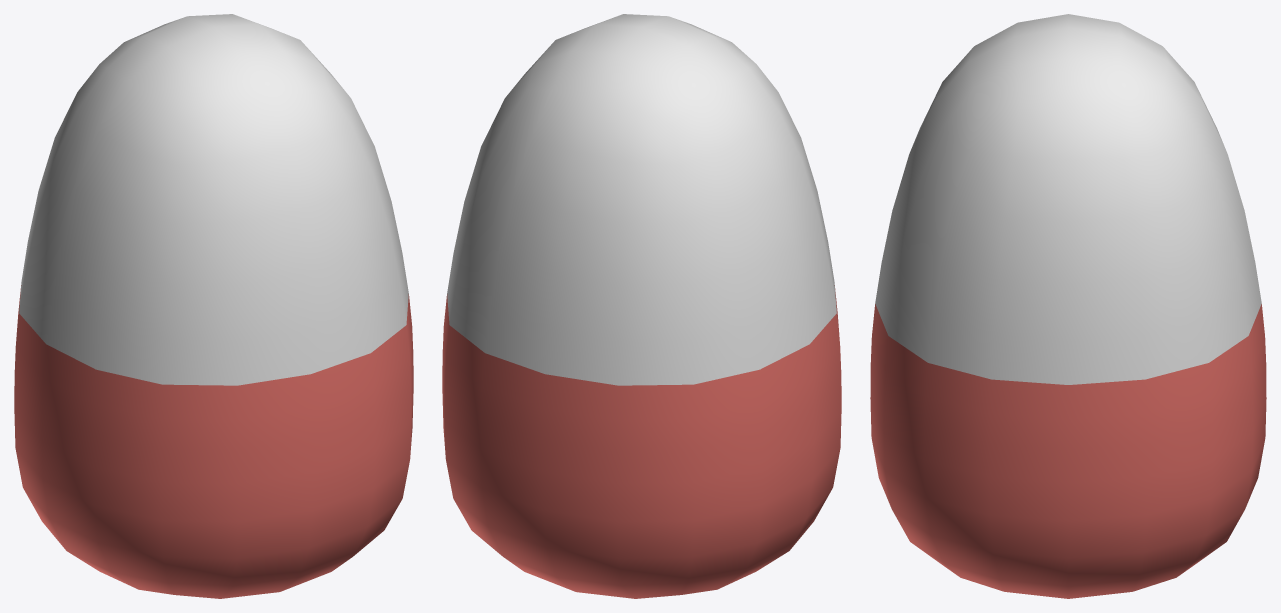
The model's file is redEgg.fbx.
The picture shows the model from 3 angles, left to right: view 1: azimuth 30°, elevation 25°; view 2: azimuth 150°, elevation 25°; view 3: azimuth 270°, elevation 25°; orthographic projection.
Parts seen in each view (by area): view 1: TopRed, BottomRed; view 2: TopRed, BottomRed; view 3: TopRed, BottomRed.
Part boxes in pixels (x1,y1,x2,y2): TopRed: [19, 14, 408, 385]; BottomRed: [14, 285, 413, 598]; TopRed: [447, 14, 836, 385]; BottomRed: [442, 285, 841, 598]; TopRed: [875, 14, 1261, 384]; BottomRed: [870, 304, 1266, 598].
Size of the model in its own units: 44.18 by 66.35 by 44.18.
